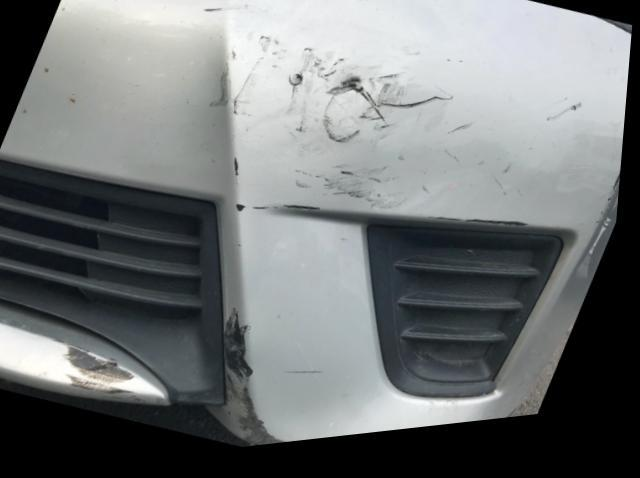scratch: (213, 35, 594, 244), (228, 315, 308, 452), (66, 347, 154, 407)
